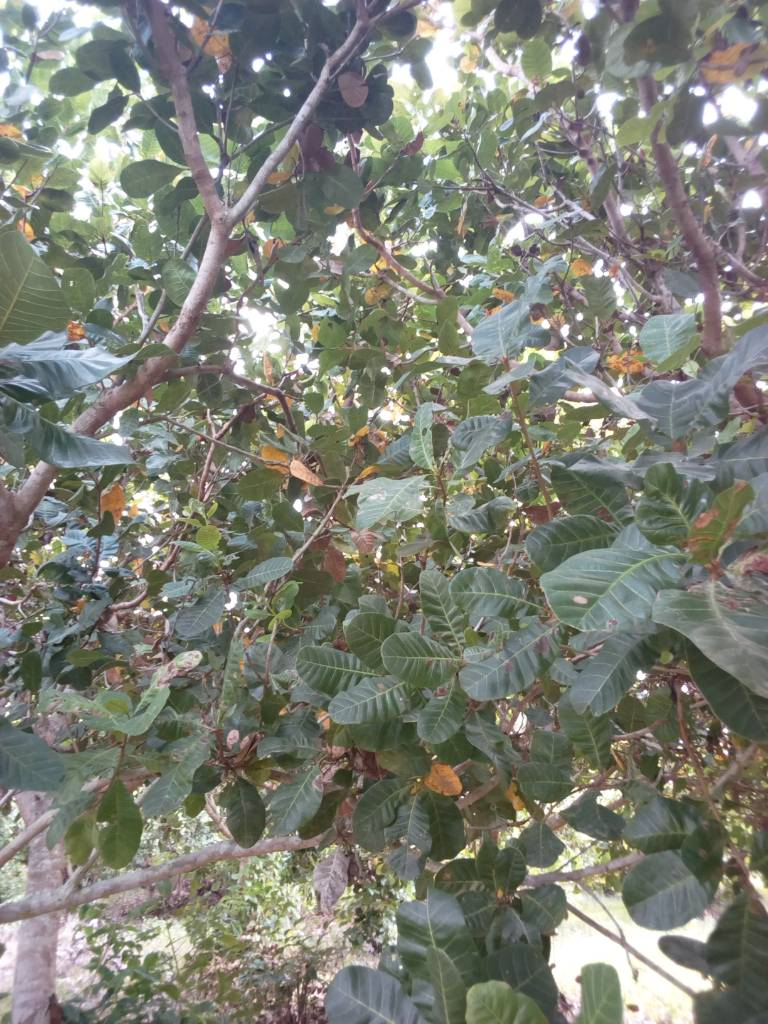Helopeltis anacardii: (1, 333, 135, 469), (660, 577, 768, 694), (657, 330, 768, 432), (632, 461, 743, 553), (463, 619, 568, 697)
